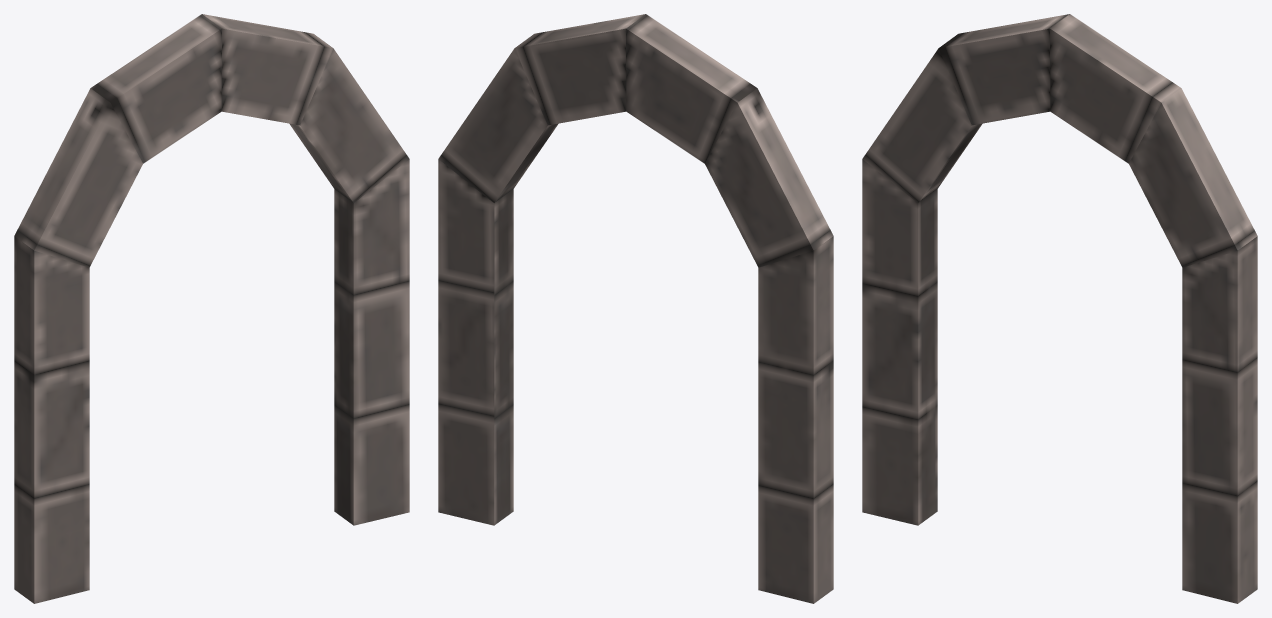
Rendered from Gate.fbx.
3 renders of one model, left to right at view 1: azimuth 30°, elevation 25°; view 2: azimuth 150°, elevation 25°; view 3: azimuth 330°, elevation 25°, orthographic.
Visible parts, largest first — view 1: gate; view 2: gate; view 3: gate.
Part boxes in pixels (left/top/right/bottom): gate: left=14, top=14, right=409, bottom=603; gate: left=438, top=14, right=833, bottom=603; gate: left=862, top=14, right=1257, bottom=603.
Bounding box in the file's own units: 947 × 1277 × 87.23.
1 material, 1 textured.
